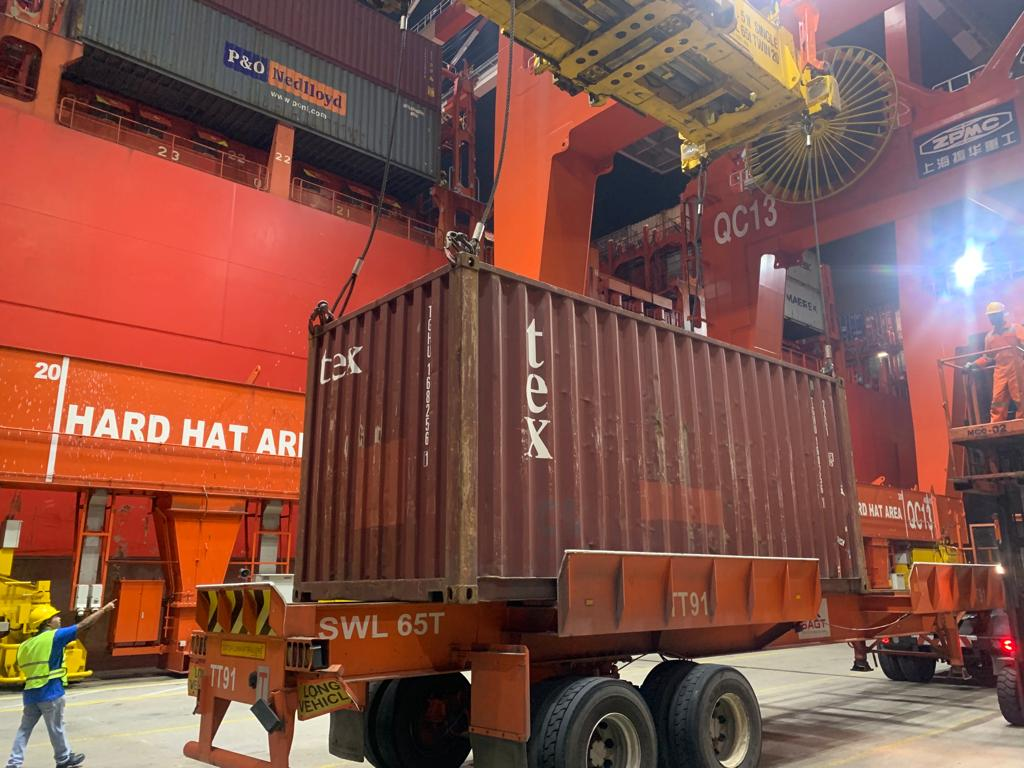dented: (541, 372, 784, 515)
